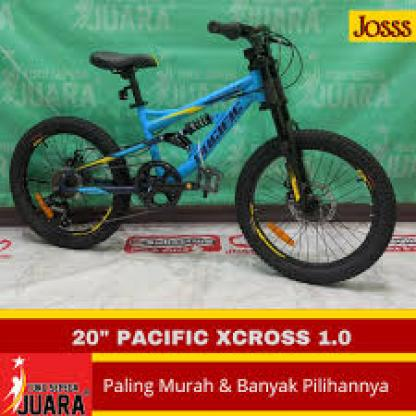Bike: (8, 17, 396, 295)
